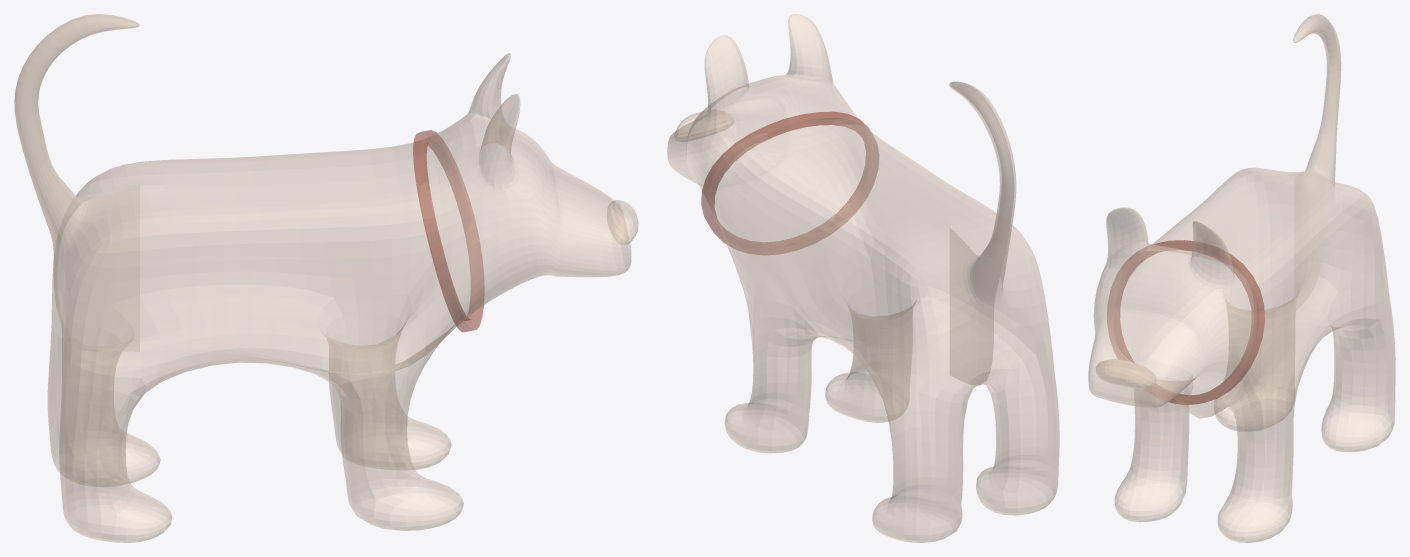
Rendered from DogStaf.fbx.
3 renders of one model, left to right at view 1: azimuth 30°, elevation 25°; view 2: azimuth 150°, elevation 25°; view 3: azimuth 270°, elevation 25°, orthographic. The views are drawn at different scales.
Visible parts, largest first — view 1: DogStaf; view 2: DogStaf; view 3: DogStaf.
Part boxes in pixels (x1,y1,x2,y2): DogStaf: (14,14,638,542); DogStaf: (667,14,1059,542); DogStaf: (1088,14,1395,542).
Size of the model in its own units: 626 by 589 by 403.
